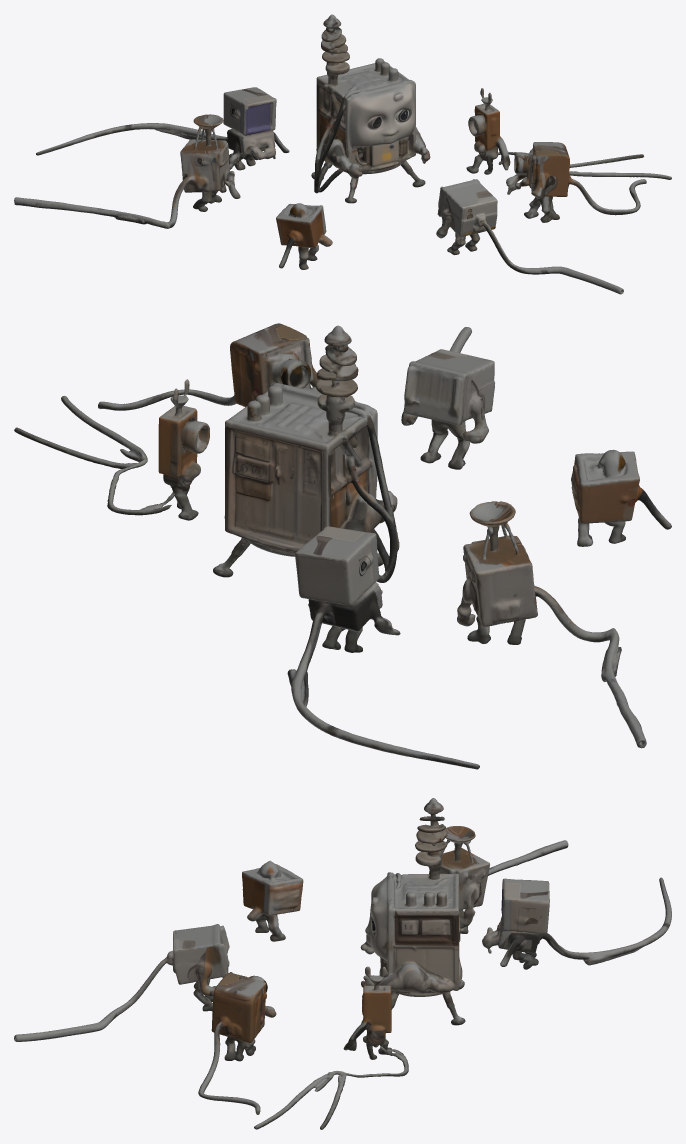
Rendered from alsep-science-station.glb.
The picture shows the model from 3 angles, top to bottom: view 1: azimuth 30°, elevation 25°; view 2: azimuth 150°, elevation 25°; view 3: azimuth 270°, elevation 25°; orthographic projection. The views are drawn at different scales.
Parts seen in each view (by area): view 1: tripo_node_87d43d81-6d6d-44d5-9d44-a556e990387c; view 2: tripo_node_87d43d81-6d6d-44d5-9d44-a556e990387c; view 3: tripo_node_87d43d81-6d6d-44d5-9d44-a556e990387c.
Boxes of the visible parts, x1=… form: tripo_node_87d43d81-6d6d-44d5-9d44-a556e990387c: x1=14, y1=14, x2=671, y2=294; tripo_node_87d43d81-6d6d-44d5-9d44-a556e990387c: x1=14, y1=323, x2=671, y2=769; tripo_node_87d43d81-6d6d-44d5-9d44-a556e990387c: x1=14, y1=798, x2=671, y2=1129.
Bounding box in the file's own units: 1 × 0.3149 × 0.978.
1 material, 1 textured.
